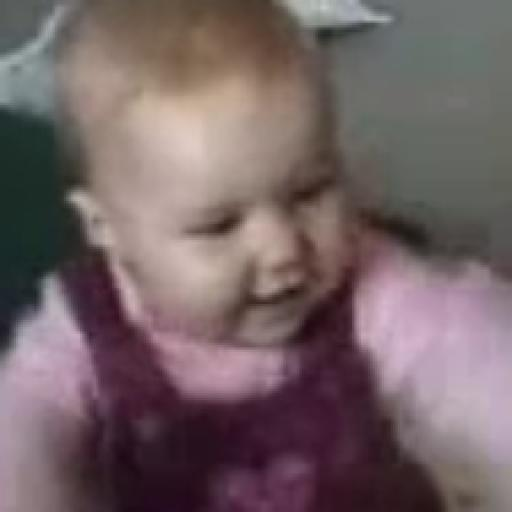Autism: (80, 0, 429, 392)
